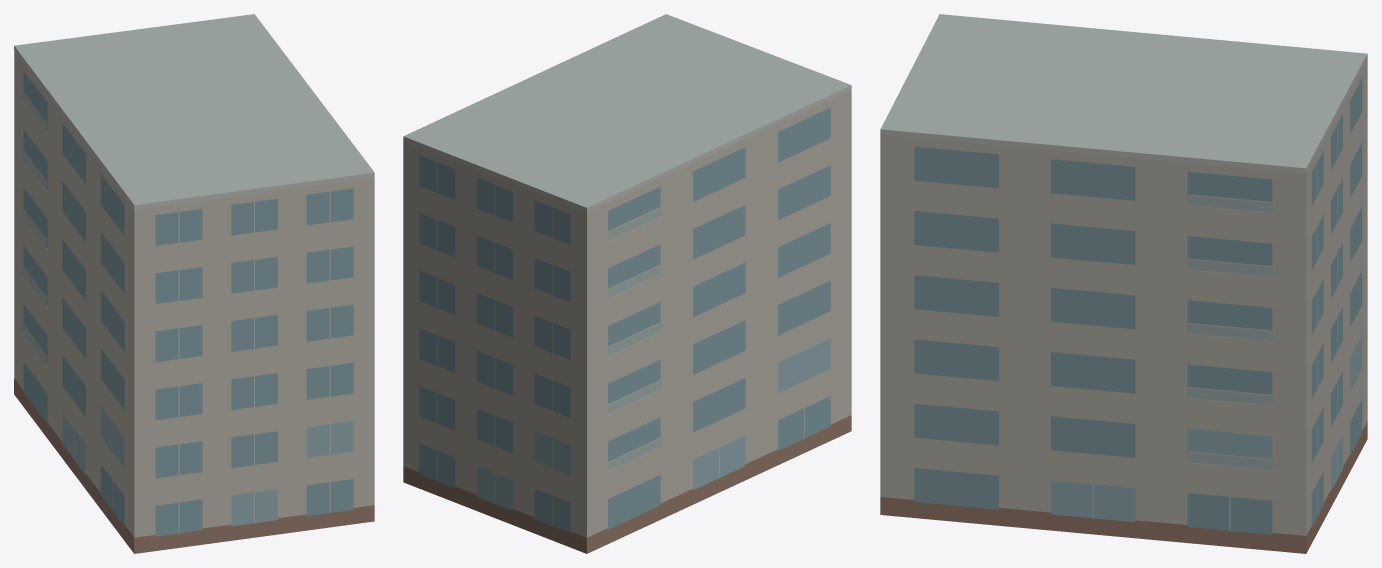
File: survey-upis-32862077.glb
The picture shows the model from 3 angles, left to right: view 1: azimuth 30°, elevation 25°; view 2: azimuth 150°, elevation 25°; view 3: azimuth 270°, elevation 25°; orthographic projection. The views are drawn at different scales.
Visible parts, largest first — view 1: survey-upis-32862077.tmp; view 2: survey-upis-32862077.tmp; view 3: survey-upis-32862077.tmp.
Part boxes in pixels (x1,y1,x2,y2): survey-upis-32862077.tmp: (14, 14, 374, 553); survey-upis-32862077.tmp: (403, 14, 851, 553); survey-upis-32862077.tmp: (880, 14, 1367, 553).
Bounding box in the file's own units: 15.89 × 18.5 × 21.19.
